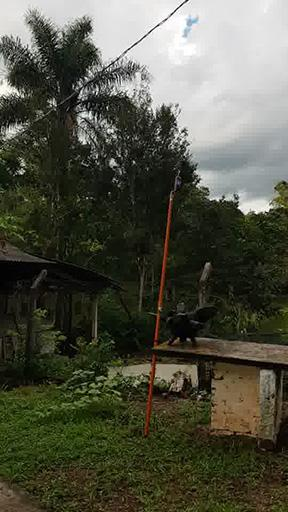Detector_Tensao_Contato: (174, 169, 182, 192)
Vara_Manobra: (144, 193, 173, 436)
